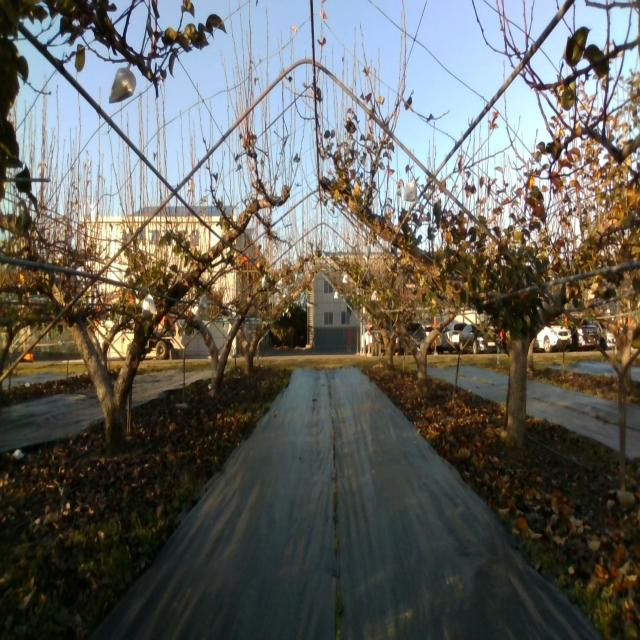pearbags: (109, 68, 137, 106), (142, 292, 158, 320), (402, 180, 419, 204)
